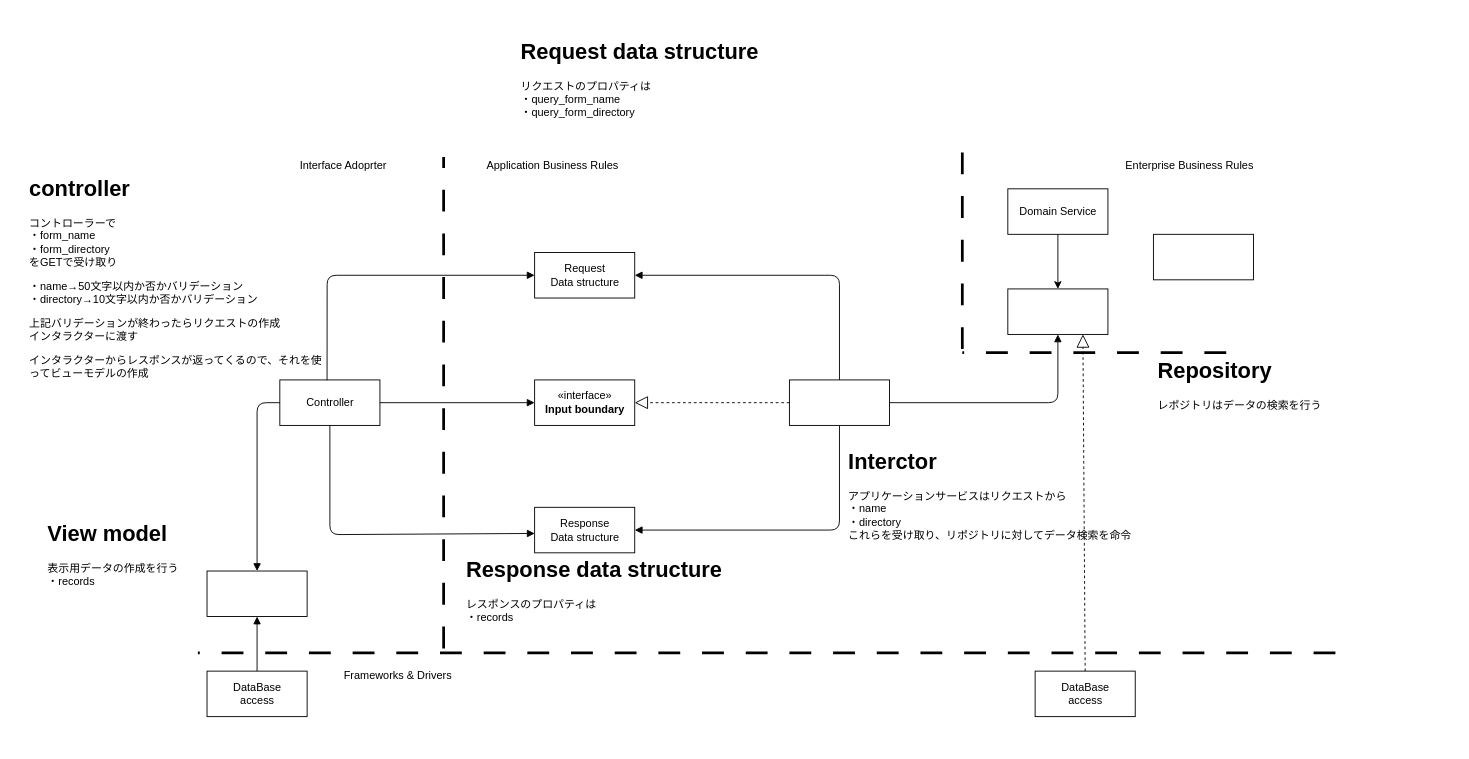
Some shapes in this 1469 by 759 pixel diagram are drawn without their labels. Each missing label, with the centre of its shape:
Entities: (x=1203, y=256)
ViewModel Data structure: (x=256, y=593)
«interface» Edit UseCase: (x=839, y=402)
«interface» Repository: (x=1057, y=311)
